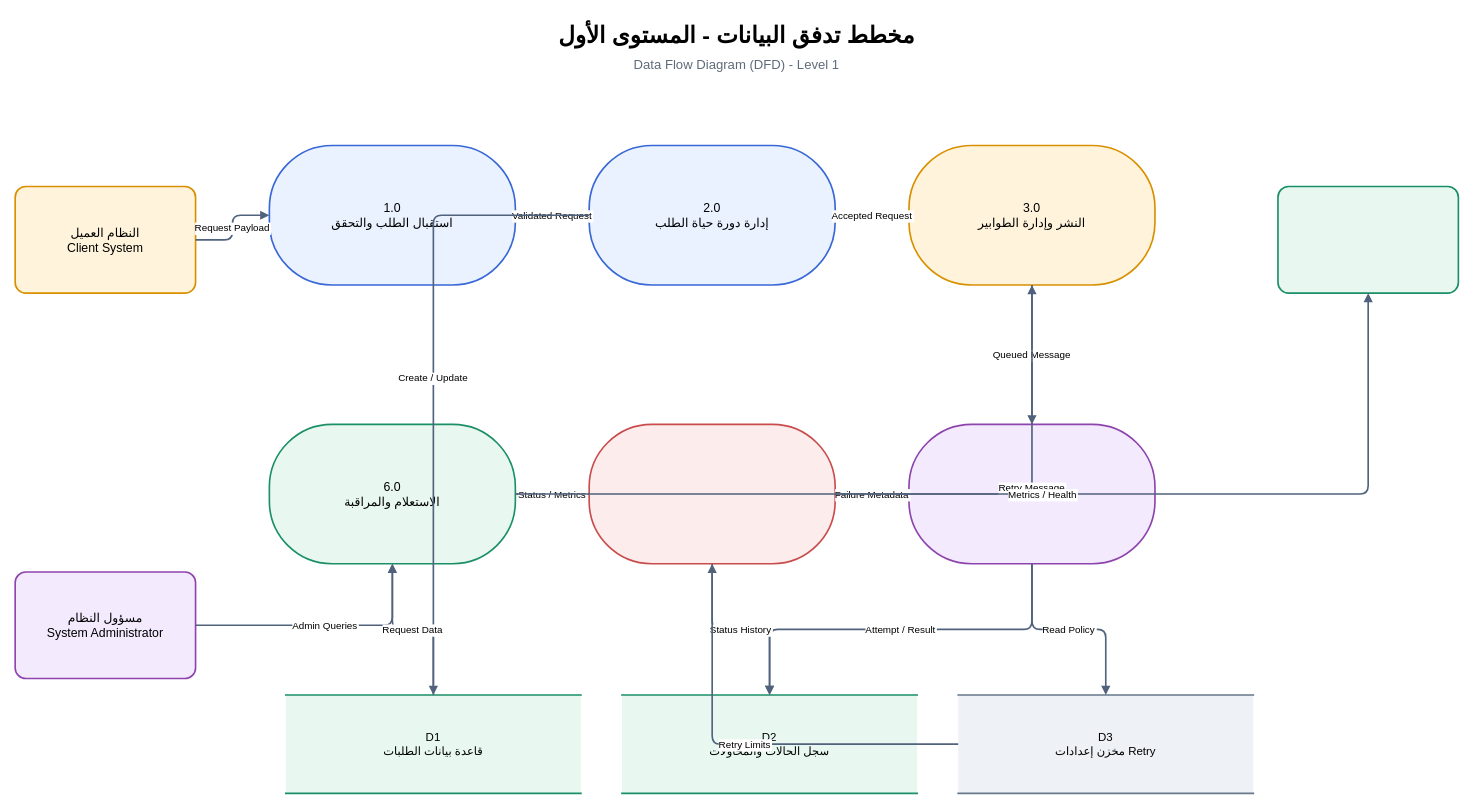
Some shapes in this 1473 by 808 pixel diagram are drawn without their labels. Each missing label, with the box of its shape:
4.0 معالجة الطلب: (908, 423, 1155, 564)
5.0 إدارة Retry وDLQ: (588, 423, 836, 564)
منصة المراقبة Monitoring Platform: (1277, 185, 1459, 294)
